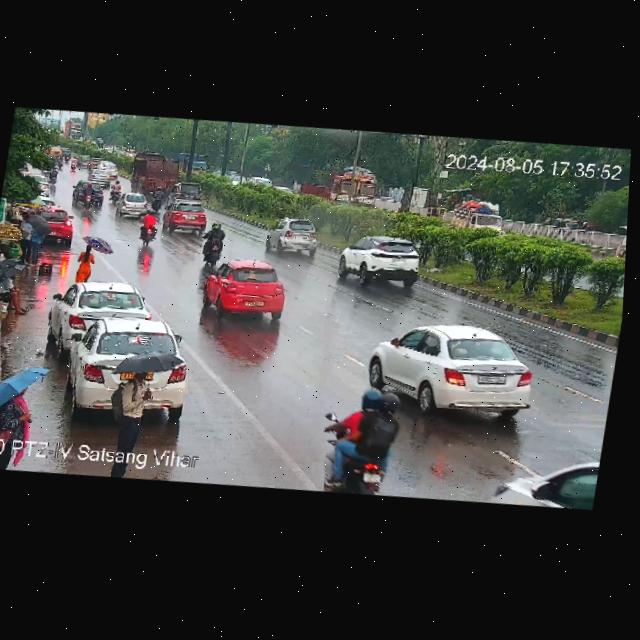car: (356, 312, 542, 425), (66, 313, 186, 388), (195, 254, 298, 330), (49, 274, 148, 344), (505, 445, 600, 512), (336, 227, 435, 289), (262, 215, 321, 259), (161, 199, 211, 236), (46, 206, 79, 246), (73, 178, 107, 204), (170, 180, 206, 202), (86, 166, 113, 186), (98, 161, 120, 179), (75, 150, 90, 167), (90, 155, 103, 168)
motorcycle: (330, 379, 407, 498), (129, 206, 165, 248), (202, 221, 225, 266), (79, 181, 95, 210), (107, 179, 124, 204), (68, 154, 79, 173), (57, 154, 64, 169)
person: (112, 350, 181, 409), (0, 377, 42, 436), (15, 207, 49, 265), (0, 270, 35, 314), (73, 241, 97, 280)
truck: (297, 161, 380, 212), (127, 141, 182, 195), (450, 185, 509, 228), (174, 149, 208, 175)
